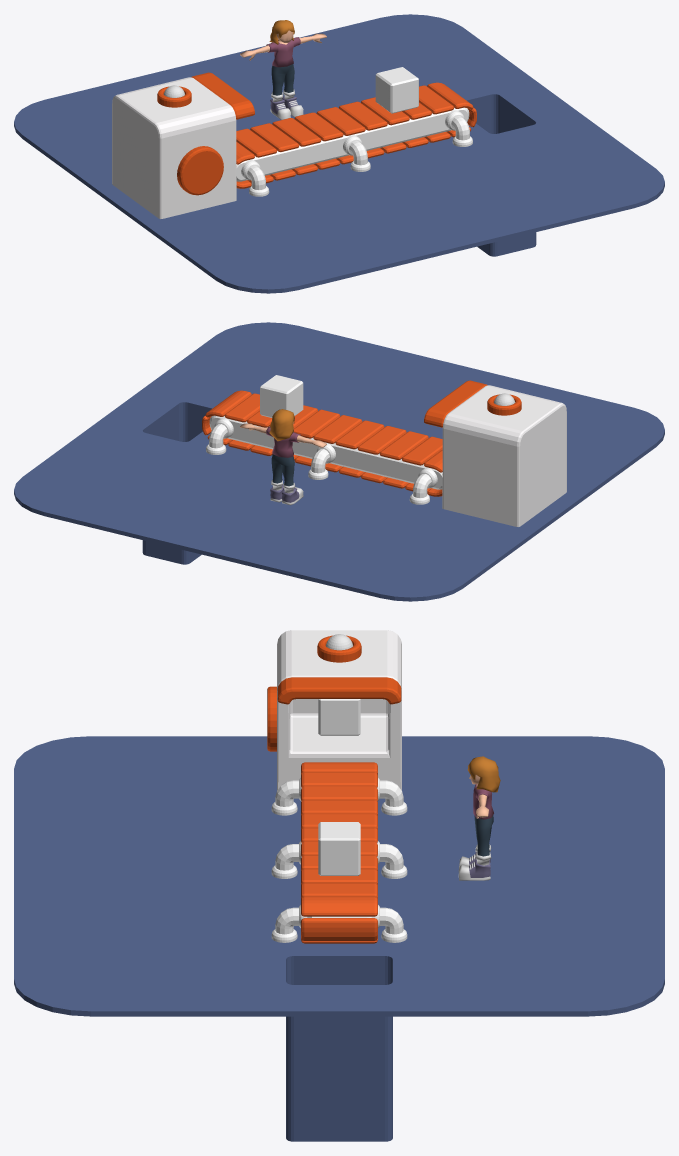
File: Conveyor Belt.glb
3 renders of one model, top to bottom at view 1: azimuth 30°, elevation 25°; view 2: azimuth 150°, elevation 25°; view 3: azimuth 270°, elevation 25°, orthographic. The views are drawn at different scales.
Parts seen in each view (by area): view 1: Floor, Printer, Conveyor Belt - Baked GLB, Conveyor Box, Printer.001, Human, Pipes, Box 4; view 2: Floor, Printer, Conveyor Belt - Baked GLB, Conveyor Box, Human, Pipes, Printer.001, Box 4; view 3: Floor, Printer, Conveyor Belt - Baked GLB, Pipes, Printer.001, Human, Box 4, Box 1.
Part boxes in pixels (left/top/right/bottom): Floor: left=14, top=14, right=664, bottom=293; Printer: left=112, top=77, right=236, bottom=218; Conveyor Belt - Baked GLB: left=236, top=82, right=476, bottom=188; Conveyor Box: left=236, top=107, right=469, bottom=181; Printer.001: left=157, top=72, right=254, bottom=195; Human: left=240, top=20, right=326, bottom=119; Pipes: left=241, top=110, right=472, bottom=196; Box 4: left=375, top=67, right=418, bottom=113; Floor: left=14, top=322, right=664, bottom=601; Printer: left=442, top=385, right=566, bottom=526; Conveyor Belt - Baked GLB: left=202, top=390, right=442, bottom=496; Conveyor Box: left=209, top=415, right=442, bottom=489; Human: left=240, top=409, right=326, bottom=505; Pipes: left=206, top=418, right=437, bottom=504; Printer.001: left=424, top=380, right=521, bottom=427; Box 4: left=260, top=375, right=303, bottom=417; Floor: left=14, top=736, right=664, bottom=1141; Printer: left=277, top=630, right=401, bottom=790; Conveyor Belt - Baked GLB: left=301, top=762, right=377, bottom=943; Pipes: left=271, top=778, right=407, bottom=942; Printer.001: left=267, top=635, right=401, bottom=751; Human: left=458, top=756, right=500, bottom=880; Box 4: left=318, top=822, right=360, bottom=875; Box 1: left=318, top=699, right=360, bottom=735.
Size of the model in its own units: 14.22 by 7.04 by 14.22.
